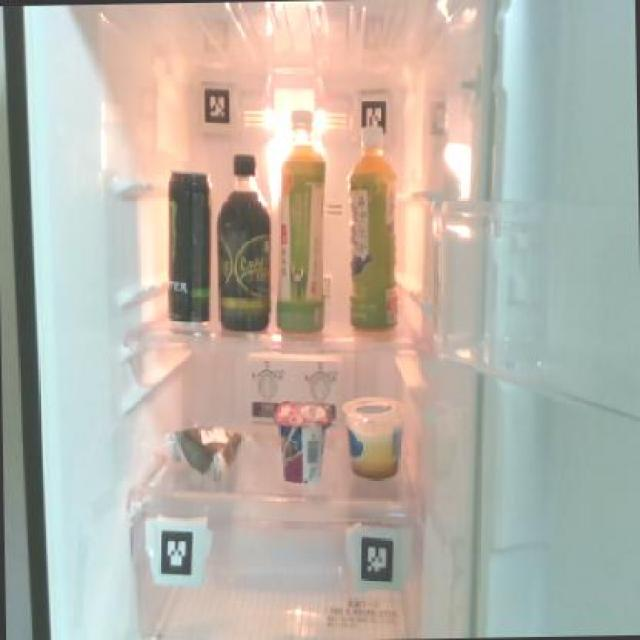coffee: (213, 148, 272, 335)
energy_drink: (163, 162, 212, 329)
pudding: (341, 389, 405, 482)
rice_ball: (166, 419, 243, 484)
tea_a: (341, 134, 401, 328)
tea_i: (270, 107, 328, 330)
yogurt: (273, 397, 333, 483)
